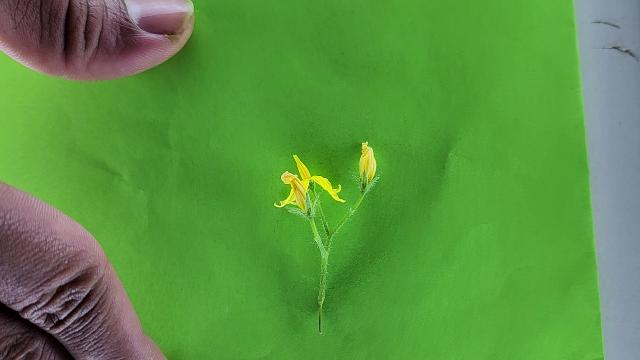Anthesis: (275, 152, 344, 211), (358, 140, 377, 187)
